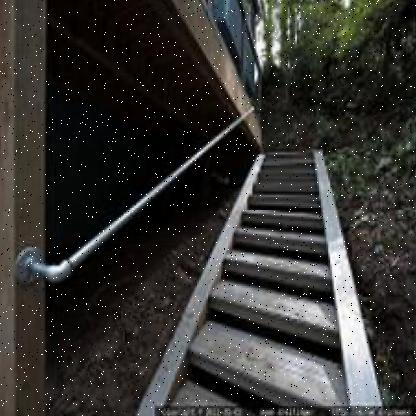stair_up: (198, 186, 362, 408)
